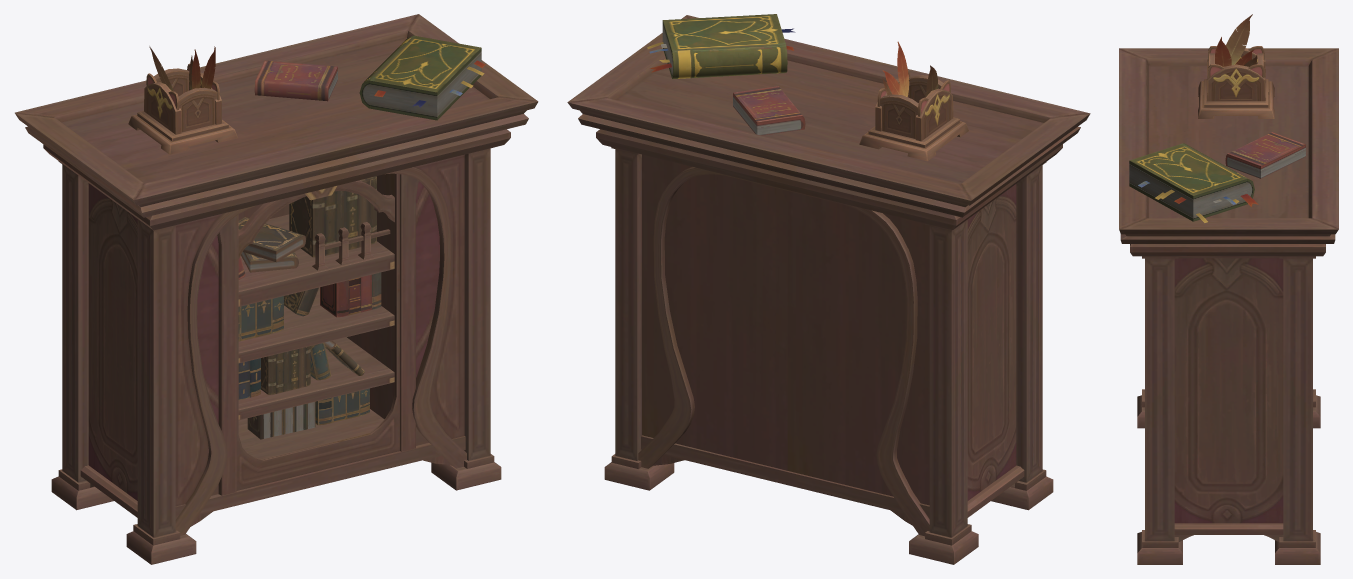
The model's file is Homeworld_Interior_Md_Cabinet_Prop_Catbook_01_Vo.fbx.
3 renders of one model, left to right at view 1: azimuth 30°, elevation 25°; view 2: azimuth 150°, elevation 25°; view 3: azimuth 270°, elevation 25°, orthographic. The views are drawn at different scales.
Visible parts, largest first — view 1: Homeworld_Interior_Md_Cabinet_Prop_Catbook_01_Vo; view 2: Homeworld_Interior_Md_Cabinet_Prop_Catbook_01_Vo; view 3: Homeworld_Interior_Md_Cabinet_Prop_Catbook_01_Vo.
Boxes of the visible parts, bbox=[...] form: Homeworld_Interior_Md_Cabinet_Prop_Catbook_01_Vo: bbox=[15, 14, 538, 564]; Homeworld_Interior_Md_Cabinet_Prop_Catbook_01_Vo: bbox=[567, 14, 1090, 564]; Homeworld_Interior_Md_Cabinet_Prop_Catbook_01_Vo: bbox=[1119, 14, 1338, 564].
Size of the model in its own units: 2.43 by 2.64 by 1.25.
